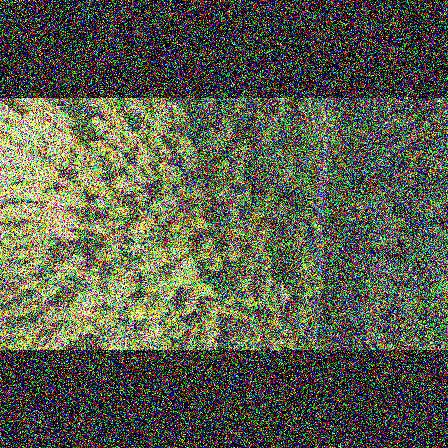Sick: (429, 199, 444, 218), (103, 129, 120, 143), (262, 273, 275, 289), (231, 191, 244, 206), (424, 126, 439, 138), (431, 114, 443, 125)
